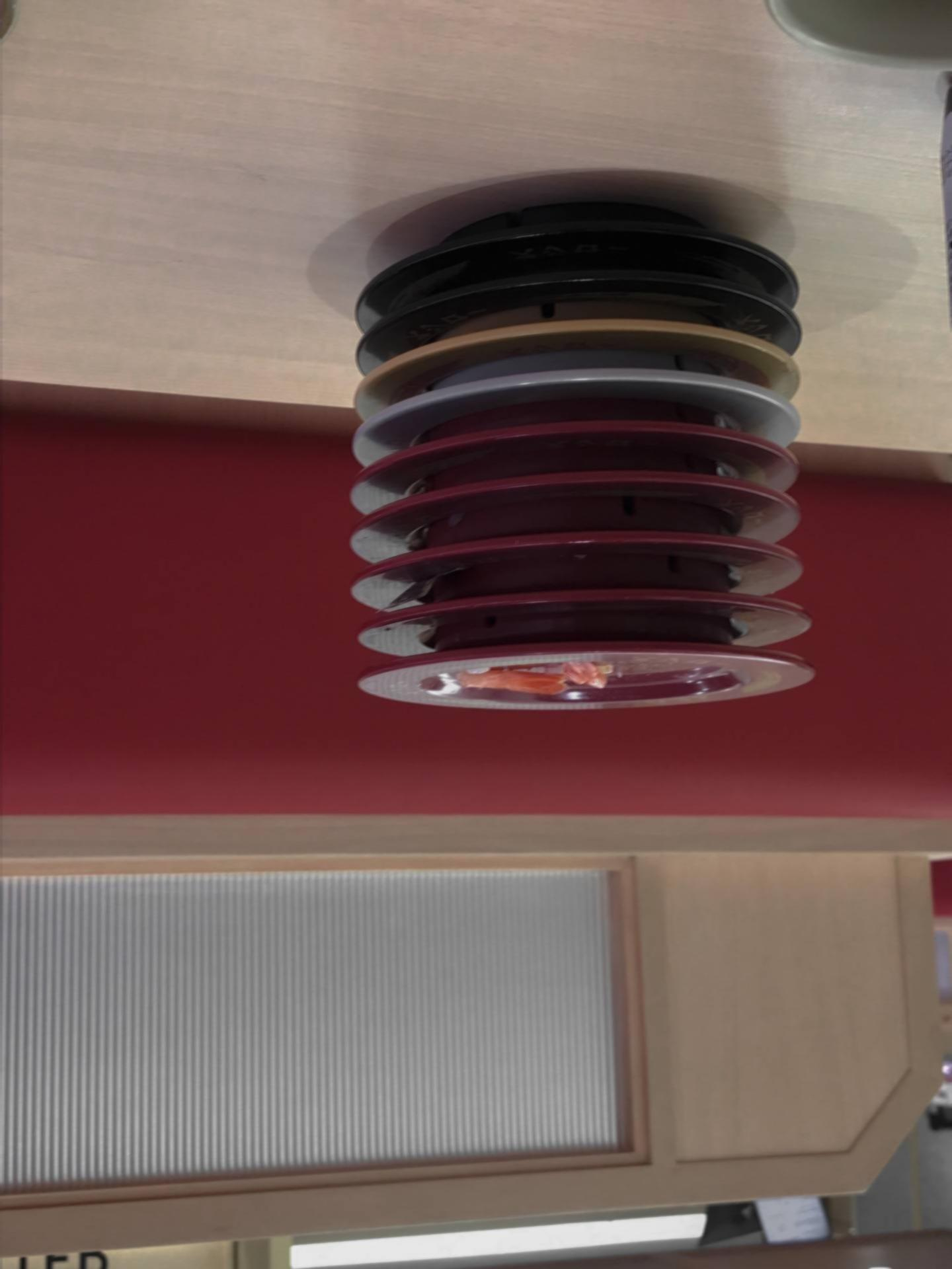Janback: (427, 204, 798, 263), (408, 261, 794, 305)
Jangold: (403, 321, 763, 363)
Janred: (356, 624, 820, 736), (366, 578, 810, 633), (401, 527, 794, 575), (416, 471, 798, 517), (430, 424, 798, 466)
Janwhite: (398, 374, 771, 413)
